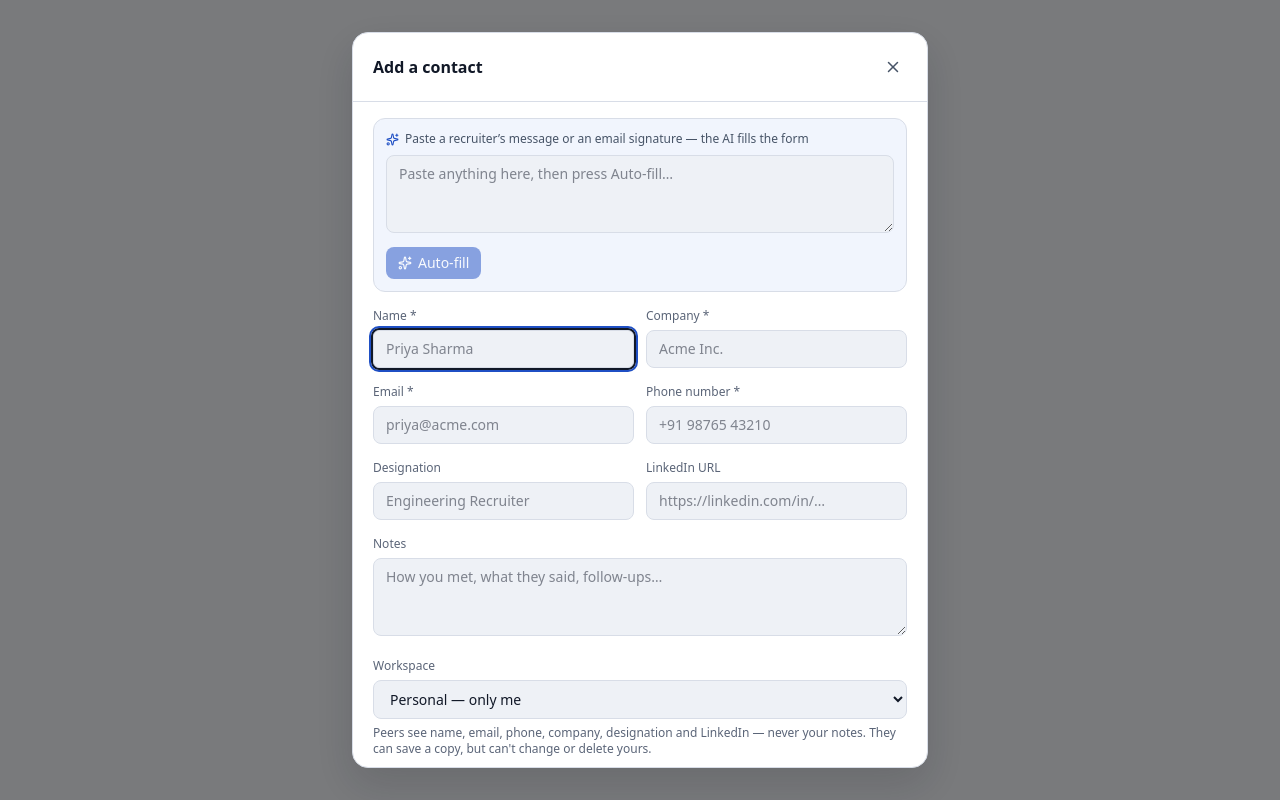
Test case: ContactModal Auto-fill › shows an error when nobody is found, and is not offered when editing
Type "hello" into the text box labelled "Paste a recruiter" at (640, 194), box [386, 155, 894, 233]
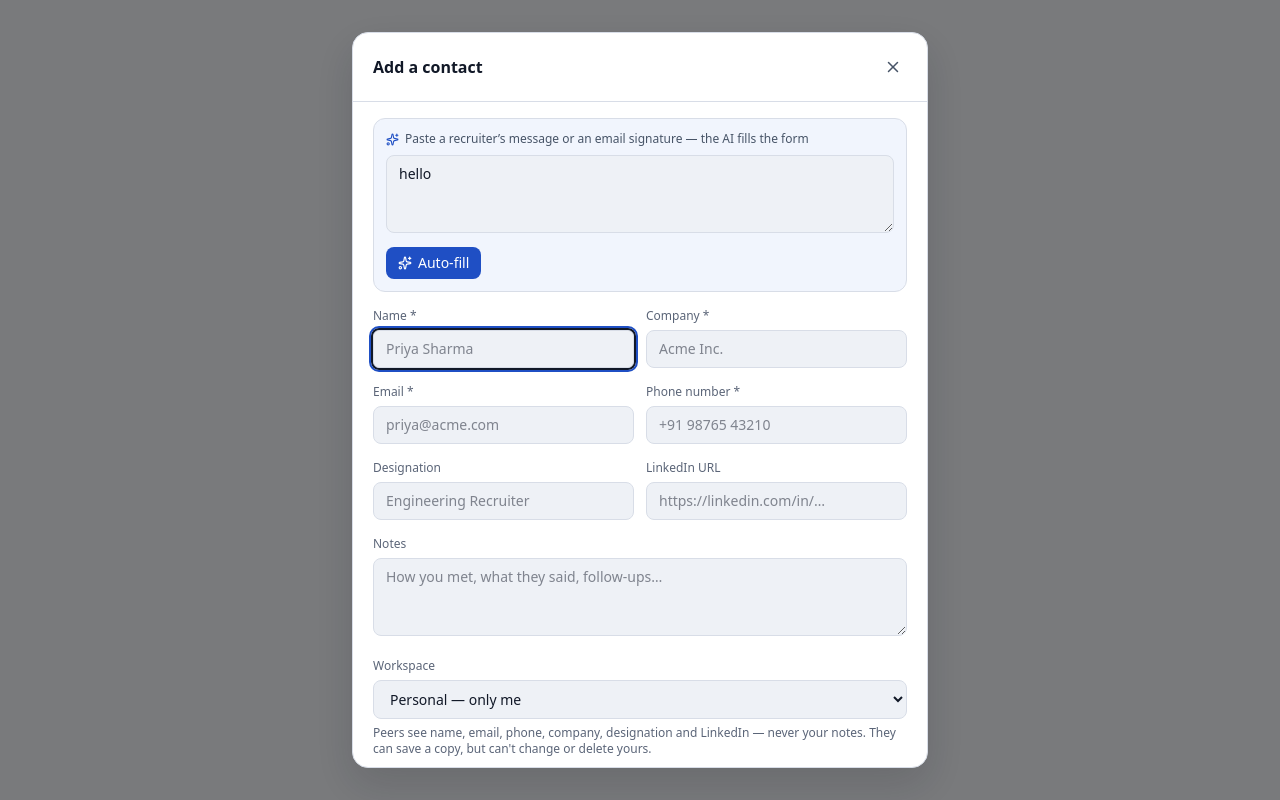
Click the button "Auto-fill" at (434, 263), box [386, 247, 481, 279]
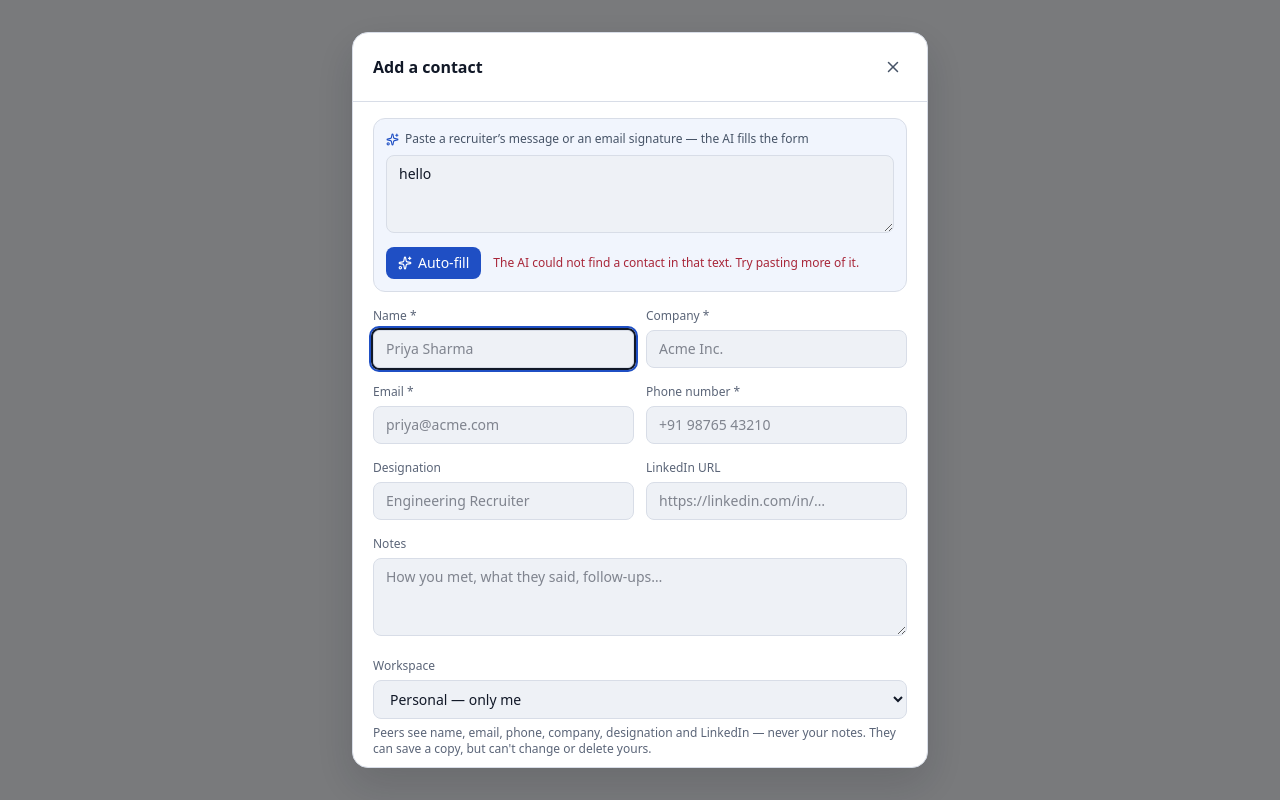
Result: the message shows "could not find a contact" at [493, 254, 859, 271]
